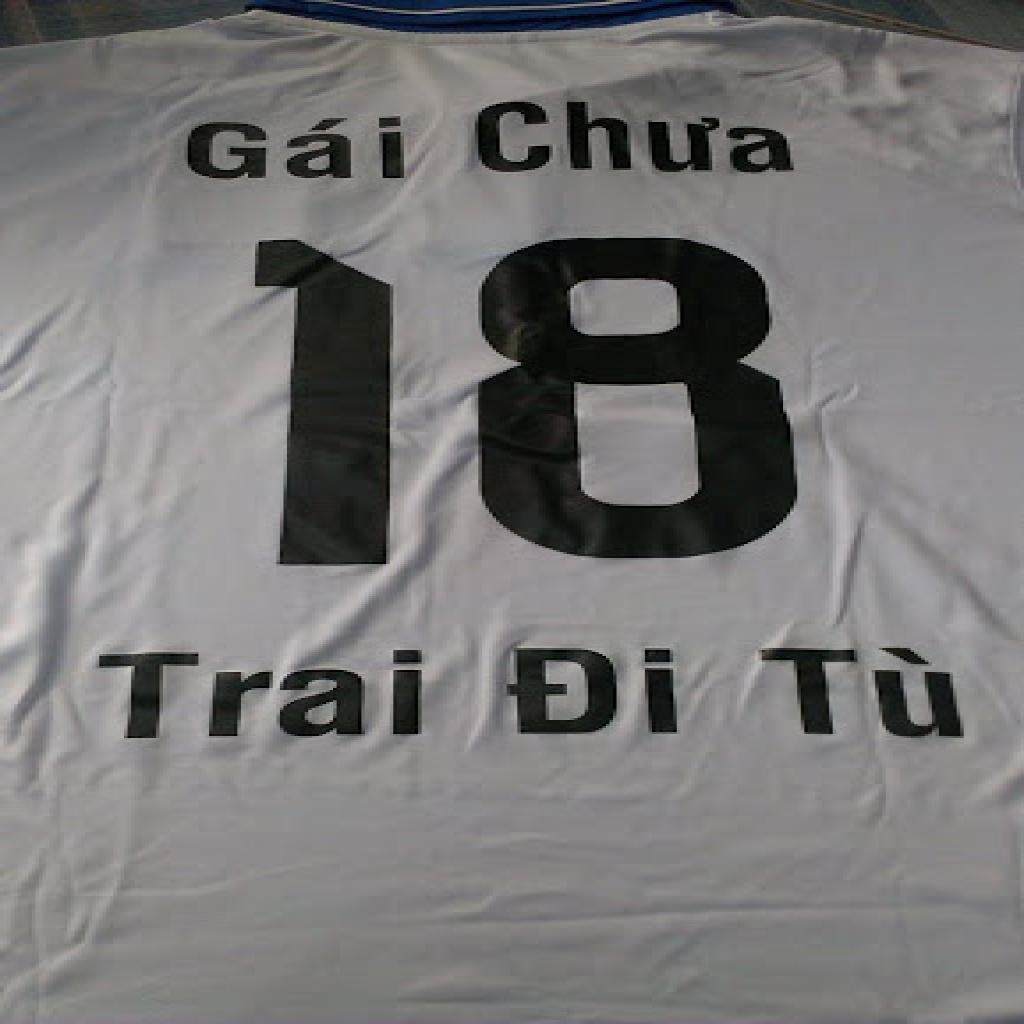text: (230, 236, 815, 568), (85, 648, 425, 742), (471, 102, 801, 176), (500, 648, 684, 738), (181, 114, 411, 182)
